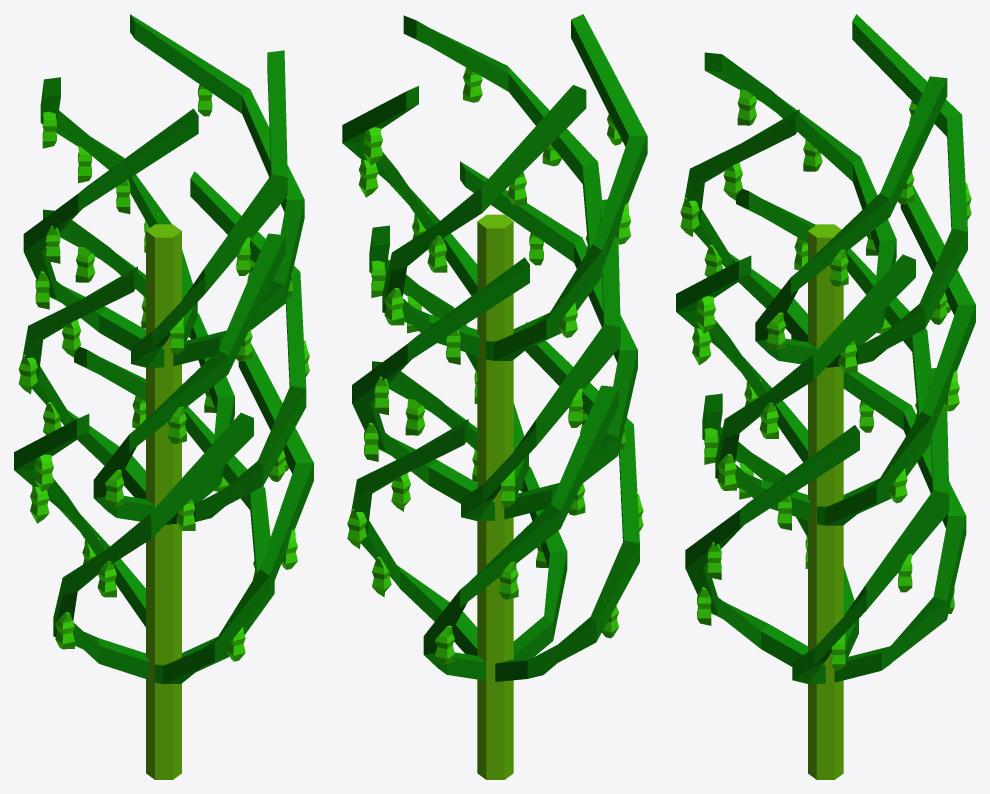
Rendered from Soy.fbx.
The picture shows the model from 3 angles, left to right: view 1: azimuth 30°, elevation 25°; view 2: azimuth 150°, elevation 25°; view 3: azimuth 270°, elevation 25°; orthographic projection.
Visible parts, largest first — view 1: Bole, Branch.010, Branch, Branch.002, Branch.004, Branch.006, Branch.008, Branch.011, Branch.007, Branch.001, Branch.003, Branch.009 (+10 smaller); view 2: Bole, Branch.011, Branch.003, Branch, Branch.009, Branch.004, Branch.005, Branch.007, Branch.008, Branch.001, Branch.002, Branch.010 (+12 smaller); view 3: Bole, Branch.009, Branch.005, Branch.010, Branch.003, Branch.002, Branch.006, Branch.001, Branch.011, Branch.008, Branch.007, Branch.004 (+10 smaller).
Part boxes in pixels (x1,y1,x2,y2): Bole: (146, 224, 181, 779); Branch.010: (130, 14, 304, 366); Branch: (53, 413, 253, 679); Branch.002: (155, 343, 313, 683); Branch.004: (93, 233, 285, 521); Branch.006: (165, 171, 306, 524); Branch.008: (131, 50, 287, 367); Branch.011: (23, 108, 198, 350); Branch.007: (22, 266, 145, 499); Branch.001: (74, 347, 274, 671); Branch.003: (14, 414, 145, 626); Branch.009: (40, 77, 197, 341); Bole: (477, 214, 513, 779); Branch.011: (486, 14, 647, 360); Branch.003: (423, 385, 618, 680); Branch: (495, 322, 639, 681); Branch.009: (382, 85, 586, 356); Branch.004: (460, 161, 637, 519); Branch.005: (352, 257, 529, 503); Branch.007: (461, 199, 620, 520); Branch.008: (403, 15, 601, 348); Branch.001: (351, 419, 477, 655); Branch.002: (372, 361, 567, 659); Branch.010: (342, 86, 477, 295); Bole: (808, 224, 843, 779); Branch.009: (826, 14, 967, 367); Branch.005: (817, 185, 975, 525); Branch.010: (755, 76, 947, 364); Branch.003: (791, 335, 966, 682); Branch.002: (685, 425, 859, 666); Branch.006: (715, 254, 915, 521); Branch.001: (792, 368, 949, 683); Branch.011: (704, 52, 896, 344); Branch.008: (684, 109, 807, 341); Branch.007: (736, 188, 931, 513); Branch.004: (676, 255, 807, 462).
Size of the model in its own units: 100 by 261 by 100.
